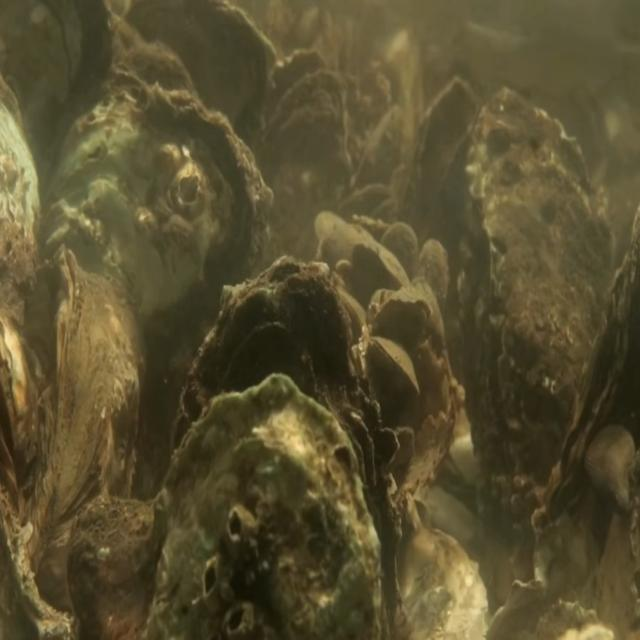Oyster-Closed: (44, 80, 273, 484), (171, 254, 402, 640), (456, 84, 614, 524), (145, 373, 384, 640), (528, 195, 640, 591), (369, 333, 419, 397), (374, 287, 432, 335)
Oyster-Indeterminate: (28, 242, 142, 640), (400, 73, 480, 304), (351, 237, 411, 291), (380, 219, 419, 291), (416, 236, 449, 312)
Oyster-Open: (254, 47, 351, 248)
